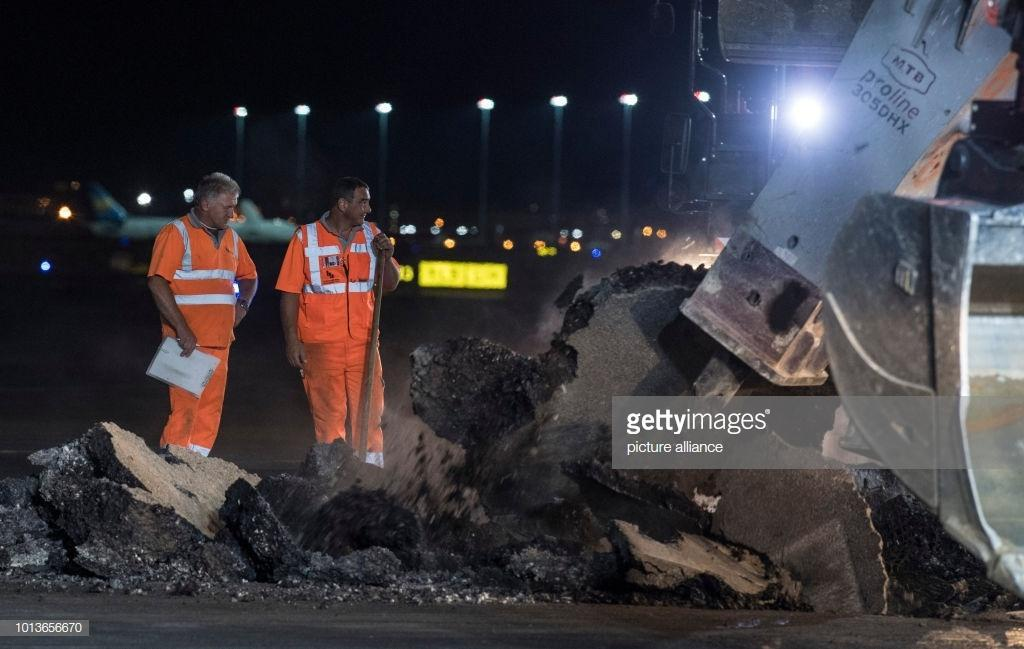no-helmet: (183, 170, 250, 228), (321, 170, 381, 229)
person: (275, 166, 411, 486), (142, 166, 262, 468)
vest: (149, 222, 263, 360), (285, 220, 398, 351)
